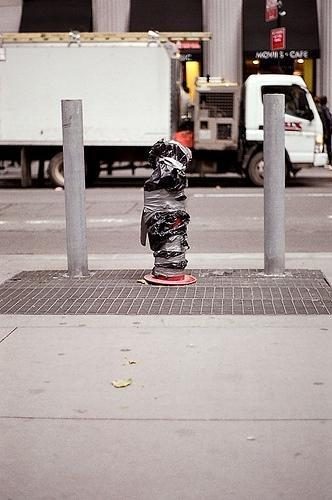truck: (1, 38, 330, 188)
